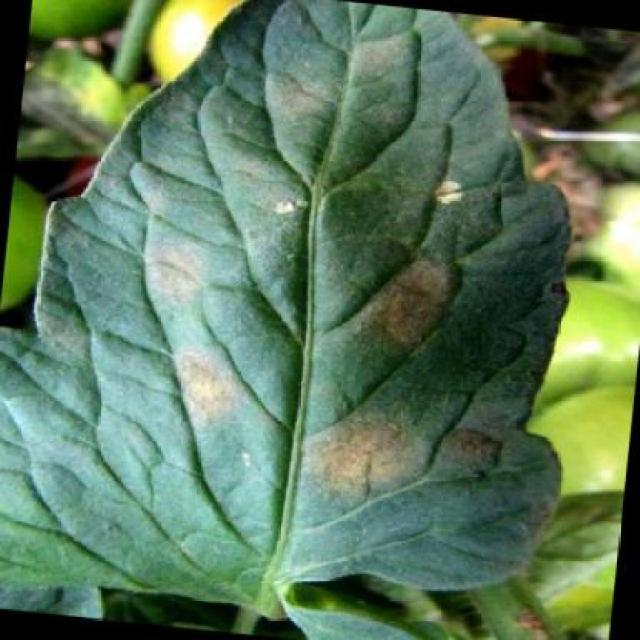Leaf Mold: (1, 1, 612, 639)
